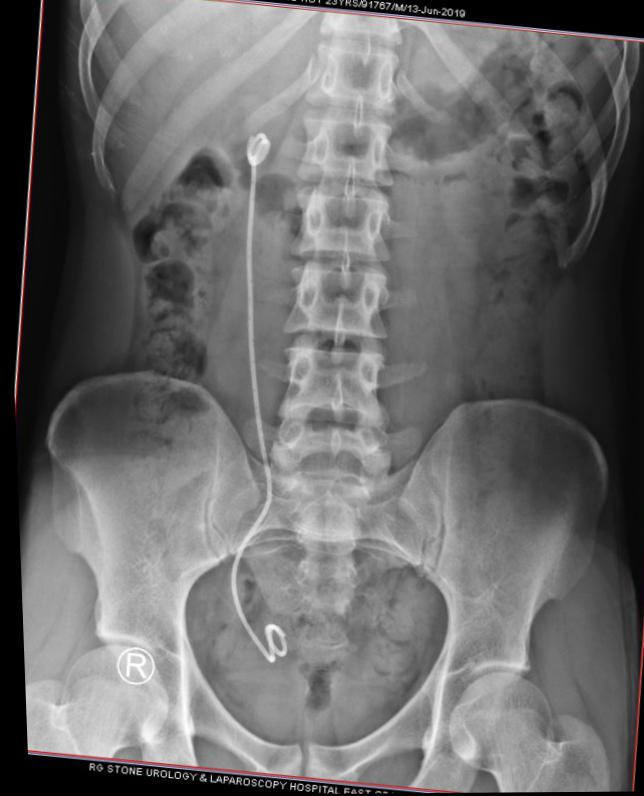bladder: (186, 584, 417, 757)
vertebrae: (293, 108, 401, 192)
